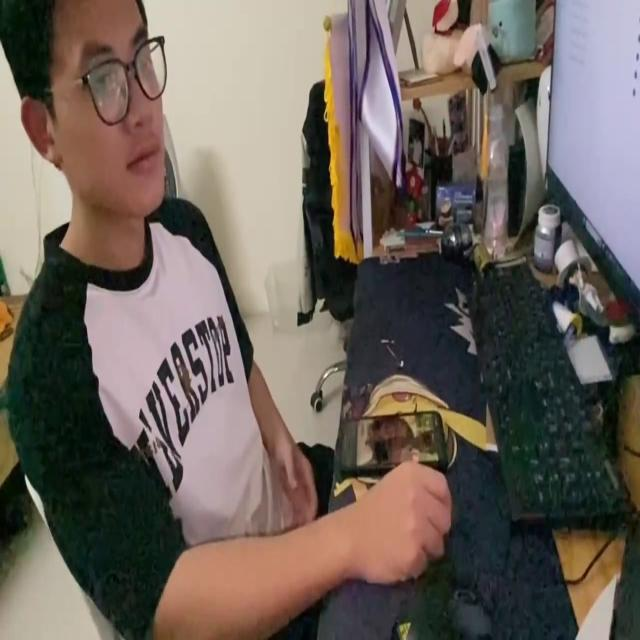laptop: (541, 0, 640, 330)
phone: (333, 406, 450, 476)
student: (0, 0, 452, 640)
